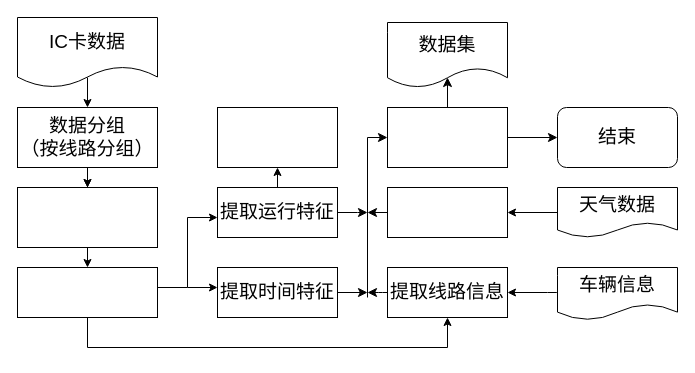
This 695x373 diagram has some shape labels left out. The centre of each missing label's shape, as x and y in pixels:
"提取历史运行特征" goes at point 277,137.
"提取天气特征" goes at point 447,212.
"数据分割 （按日期分组）" goes at point 87,217.
"数据预处理" goes at point 87,292.
"特征组合" goes at point 447,137.
